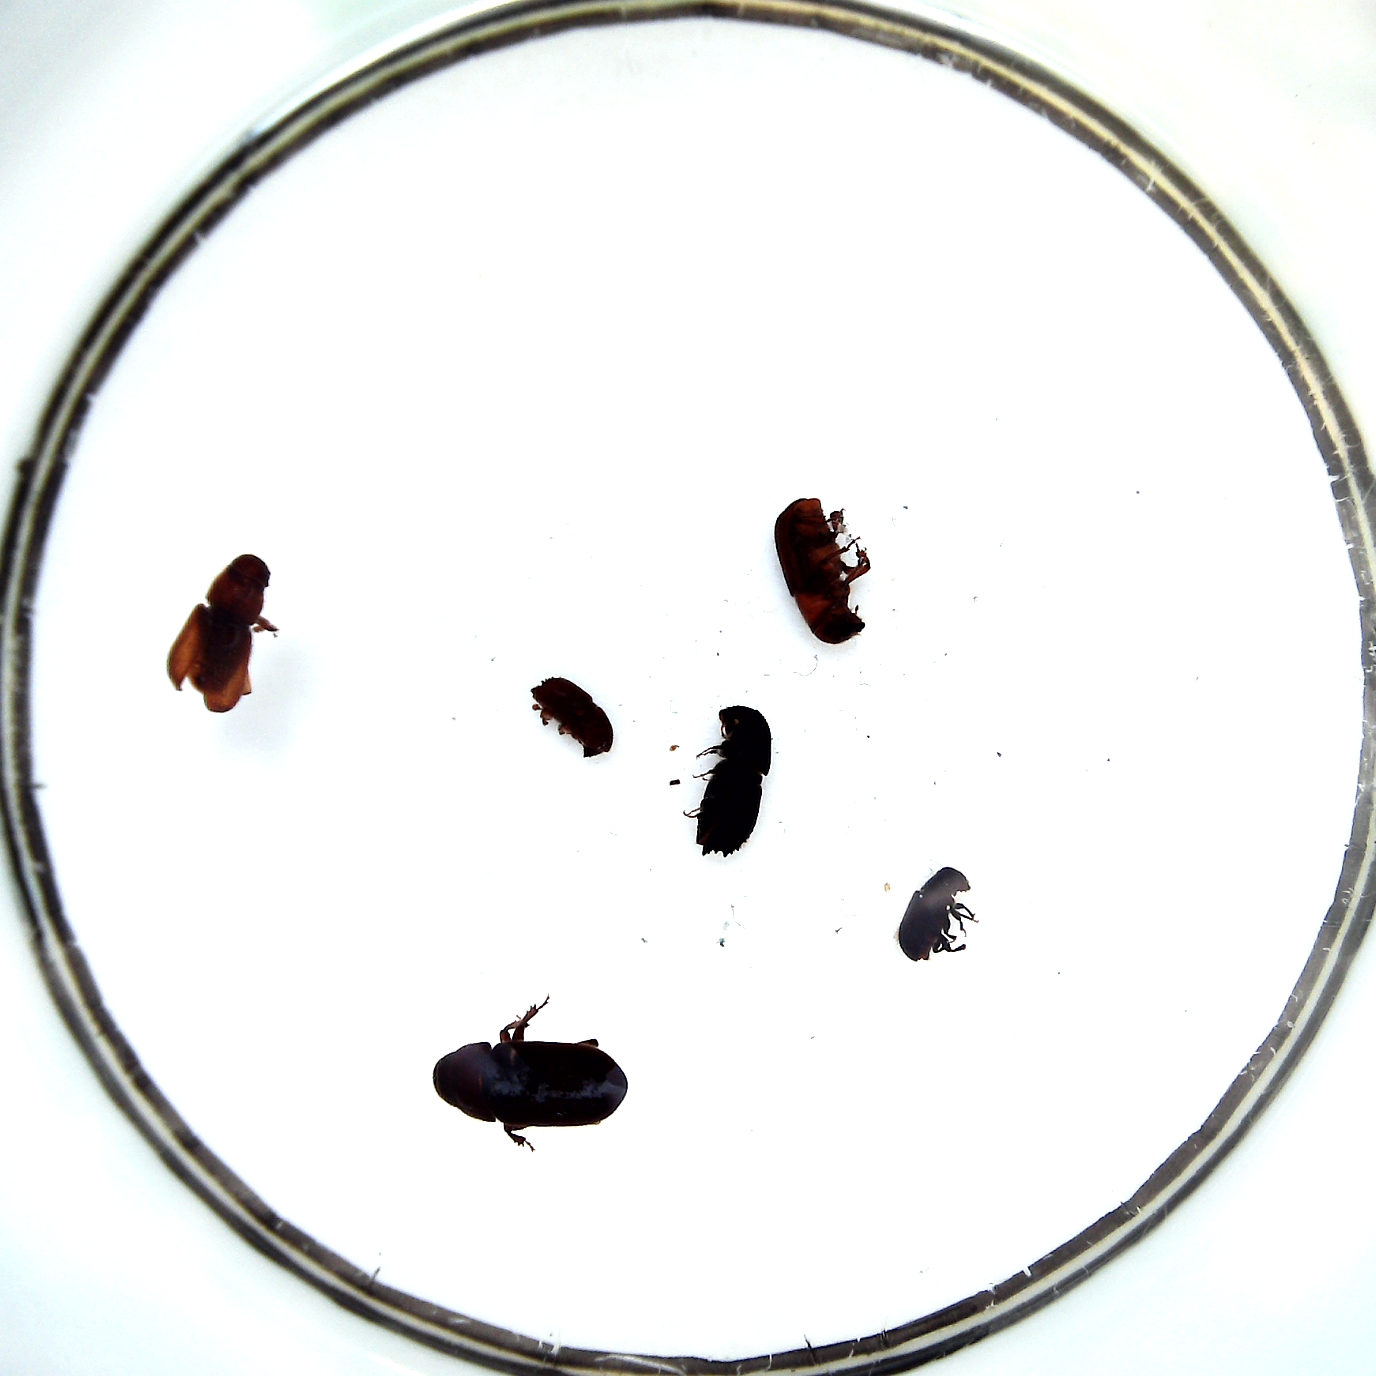Boerner: (696, 704, 770, 856)
Leconte: (433, 1038, 628, 1127), (165, 554, 270, 714), (775, 499, 866, 644)
armandi: (897, 866, 972, 961)
linnaeus: (530, 675, 614, 759)
